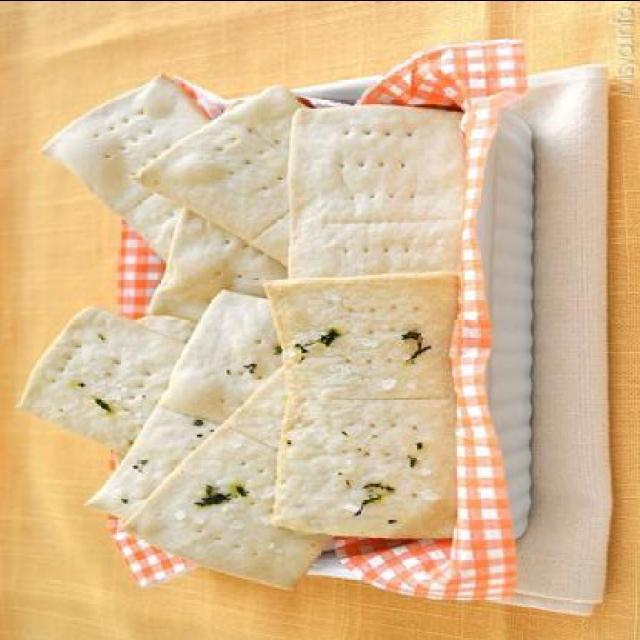Cracker packaged: (134, 340, 372, 580), (262, 260, 460, 546), (270, 92, 476, 324), (41, 64, 202, 252)
